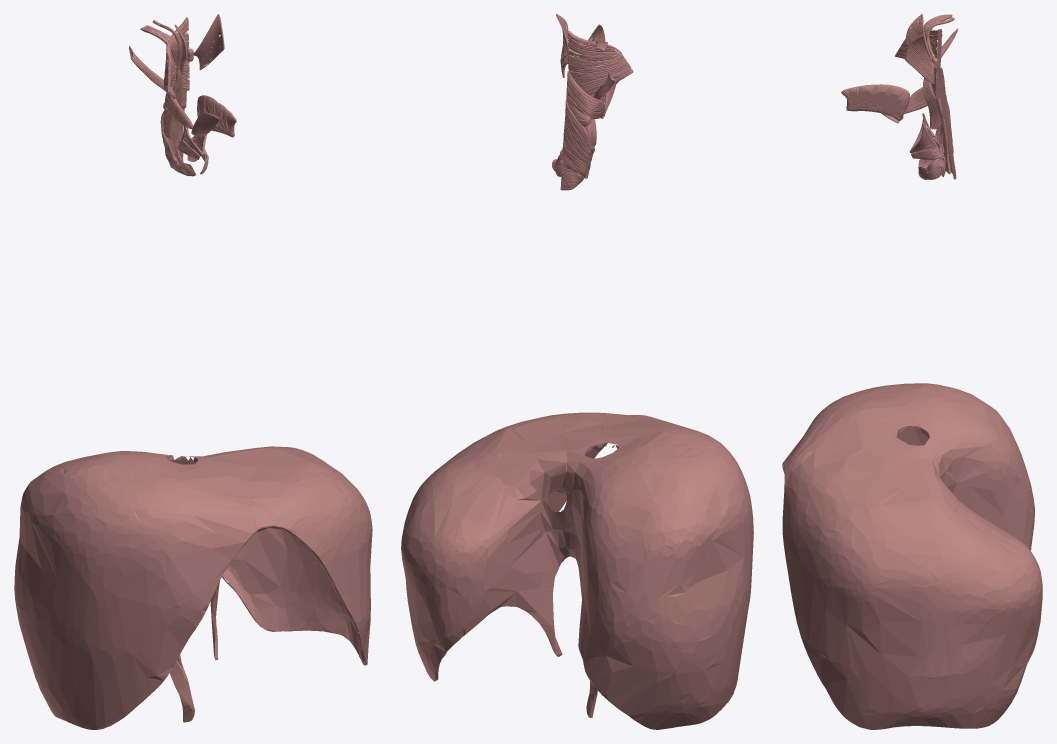
The model's file is muscular-05.glb.
3 views of the same model, side by side, from view 1: azimuth 30°, elevation 25°; view 2: azimuth 150°, elevation 25°; view 3: azimuth 270°, elevation 25° (orthographic). The views are drawn at different scales.
Visible parts, largest first — view 1: FJ3131, FJ2759, FJ2748, FJ2750, FJ2758, FJ2755, FJ2754; view 2: FJ3131, FJ2759, FJ2752, FJ2754; view 3: FJ3131, FJ2750, FJ2748, FJ2759, FJ2758, FJ2754, FJ2755, FJ2752, FJ2760.
Boxes of the visible parts, x1,y1,x2,y2 form: FJ3131: (14,446,372,729); FJ2759: (163,17,189,92); FJ2748: (193,14,224,70); FJ2750: (197,95,236,137); FJ2758: (129,46,176,138); FJ2755: (160,56,188,155); FJ2754: (163,63,193,129); FJ3131: (401,412,753,729); FJ2759: (568,30,633,95); FJ2752: (560,99,594,190); FJ2754: (566,71,605,126); FJ3131: (782,383,1042,729); FJ2750: (841,84,909,120); FJ2748: (905,34,934,83); FJ2759: (895,29,942,99); FJ2758: (923,28,958,129); FJ2754: (904,67,947,118); FJ2755: (931,56,950,174); FJ2752: (934,94,956,179); FJ2760: (905,14,932,65).
Bounding box in the file's own units: 0.2435 × 0.5175 × 0.1794.
